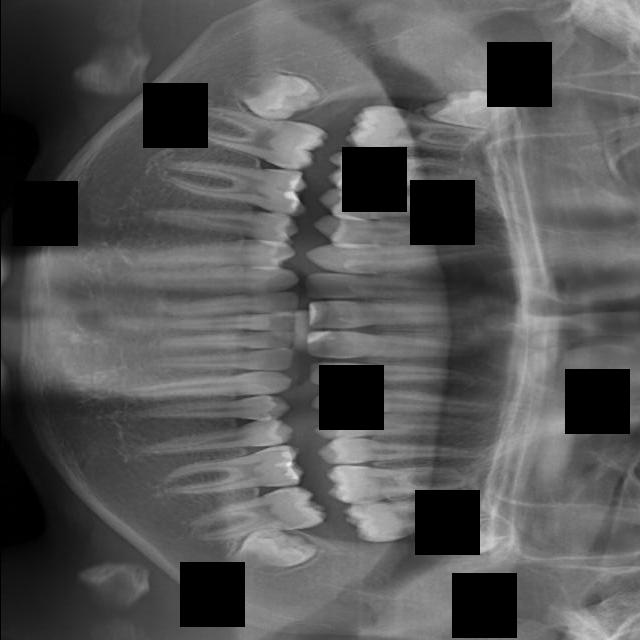3M ESPE Implant: (420, 82, 517, 131)
AGS Medikal Implant: (305, 362, 476, 390)
AMerOss Implant: (309, 386, 511, 414)
Amalgam filling: (314, 407, 494, 440)
Anthogyr Implant: (317, 435, 487, 465)
Bicon Implant: (324, 455, 475, 506)
BioHorizons Implant: (341, 482, 497, 548)
BioLife Implant: (427, 513, 519, 562)
Biomet 3i Implant: (224, 528, 321, 581)
Blue Sky Bio Implant: (184, 482, 330, 546)
Camlog Implant: (157, 443, 306, 502)
Caries: (343, 103, 490, 154)
Composite filling: (134, 417, 295, 456)
Cowellmedi Implant: (125, 394, 291, 424)
Crown: (115, 369, 293, 403)
DENTSPLY Implant: (144, 349, 296, 373)
Dentatus Implant: (157, 330, 296, 351)
Dentis Implant: (167, 313, 296, 331)
Dentium Implant: (161, 291, 299, 318)
Euroteknika Implant: (133, 266, 299, 293)
Filling: (135, 235, 295, 269)
Frontier Implant: (139, 190, 301, 247)
Hiossen Implant: (325, 147, 469, 199)
Implant: (180, 101, 330, 175)
Implant Direct: (159, 156, 311, 218)
Keystone Dental Implant: (223, 60, 325, 130)
MIS Implant: (315, 188, 489, 227)
Mandible: (311, 214, 480, 252)
Maxilla: (303, 238, 522, 276)
Megagen Implant: (423, 280, 424, 280)
Neodent Implant: (305, 299, 488, 329)
Neoss Implant: (303, 330, 487, 359)
